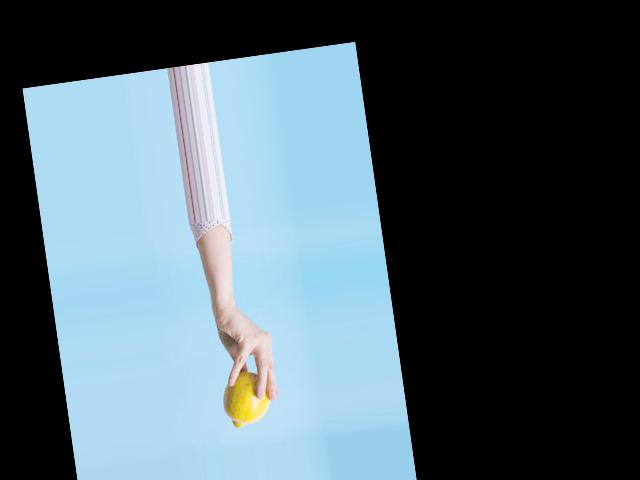lemon: (213, 353, 292, 432)
